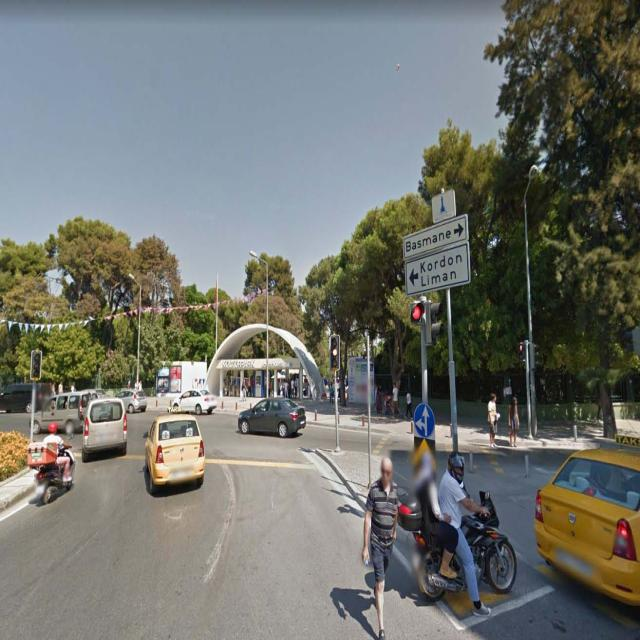ilerisol: (414, 401, 434, 438)
